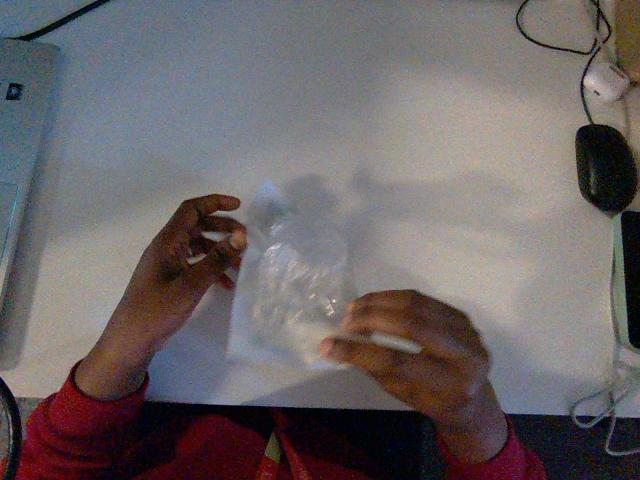gallipot: (228, 182, 355, 368), (251, 213, 347, 362)
